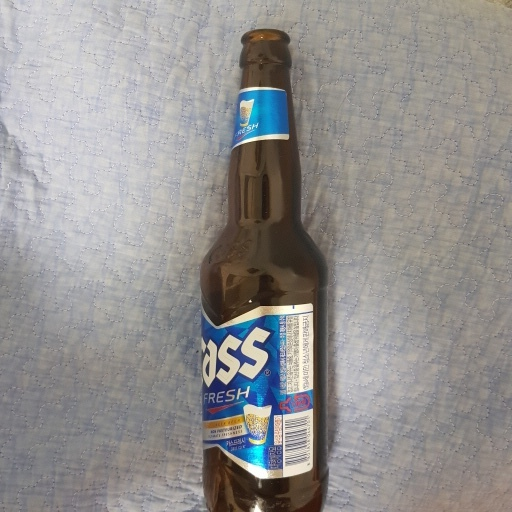Glass_1: (193, 34, 332, 512)
